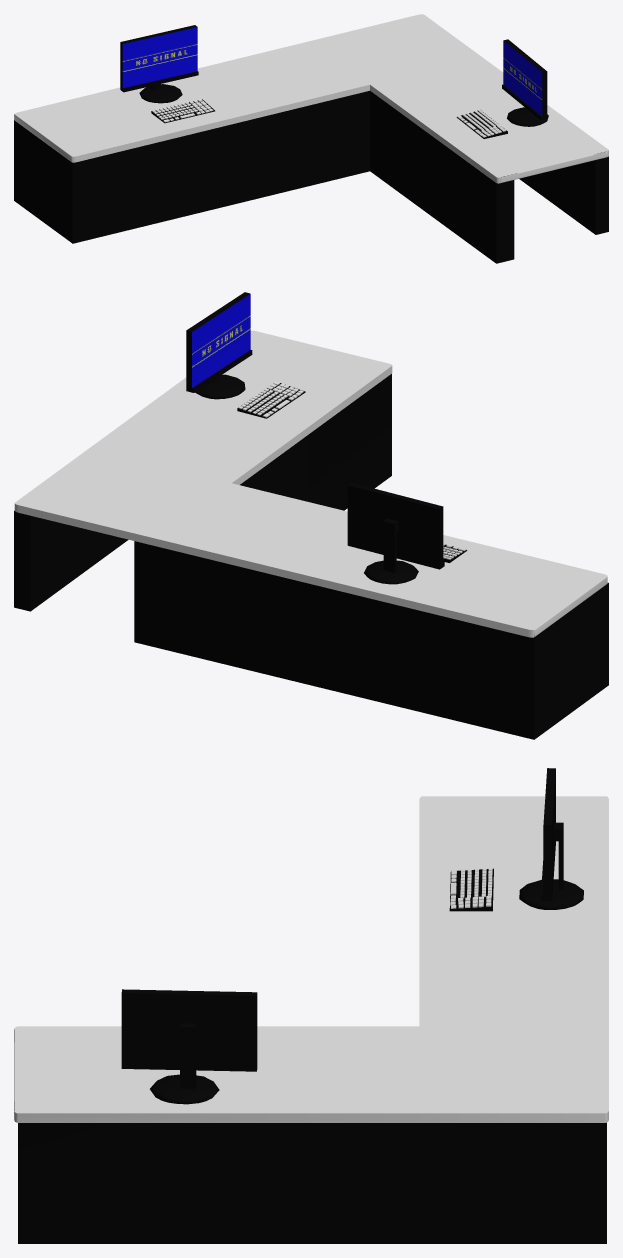
The model's file is reception desk .fbx.
3 views of the same model, one above another, from view 1: azimuth 30°, elevation 25°; view 2: azimuth 150°, elevation 25°; view 3: azimuth 270°, elevation 25° (orthographic). The views are drawn at different scales.
Visible parts, largest first — view 1: Cube, Cube.003, Cube.060, Icosphere, Icosphere.001, Cube.004, Cube.059; view 2: Cube, Cube.003, Cube.060, Icosphere, Icosphere.001; view 3: Cube, Cube.060, Cube.003, Icosphere.001, Icosphere, Cube.004.
Part boxes in pixels (x1=…): Cube: x1=14, y1=14, x2=608, y2=263; Cube.003: x1=120, y1=25, x2=198, y2=92; Cube.060: x1=502, y1=39, x2=547, y2=120; Icosphere: x1=139, y1=84, x2=182, y2=103; Icosphere.001: x1=507, y1=107, x2=548, y2=126; Cube.004: x1=151, y1=99, x2=214, y2=123; Cube.059: x1=456, y1=110, x2=507, y2=138; Cube: x1=14, y1=330, x2=608, y2=739; Cube.003: x1=347, y1=482, x2=444, y2=572; Cube.060: x1=186, y1=292, x2=252, y2=392; Icosphere: x1=364, y1=560, x2=418, y2=584; Icosphere.001: x1=195, y1=374, x2=245, y2=399; Cube: x1=14, y1=796, x2=608, y2=1243; Cube.060: x1=121, y1=989, x2=257, y2=1088; Cube.003: x1=541, y1=768, x2=563, y2=901; Icosphere.001: x1=150, y1=1074, x2=219, y2=1104; Icosphere: x1=519, y1=879, x2=583, y2=909; Cube.004: x1=449, y1=868, x2=493, y2=911.
Bounding box in the file's own units: 885 × 306 × 701.
